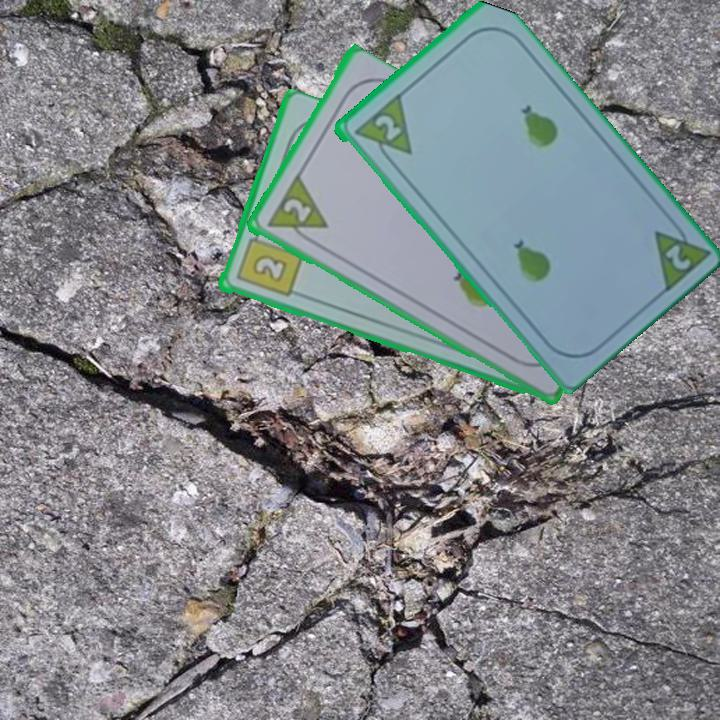2b: (232, 226, 305, 301)
2p: (349, 91, 415, 170), (649, 212, 710, 296), (278, 194, 314, 226)
